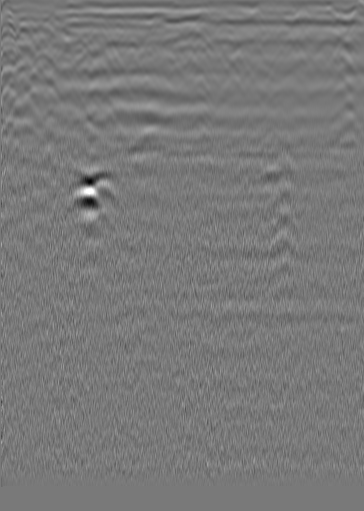가스: (263, 180, 301, 221)
상수: (0, 17, 20, 37)
오수: (291, 12, 311, 32)
우수: (150, 11, 170, 31)
